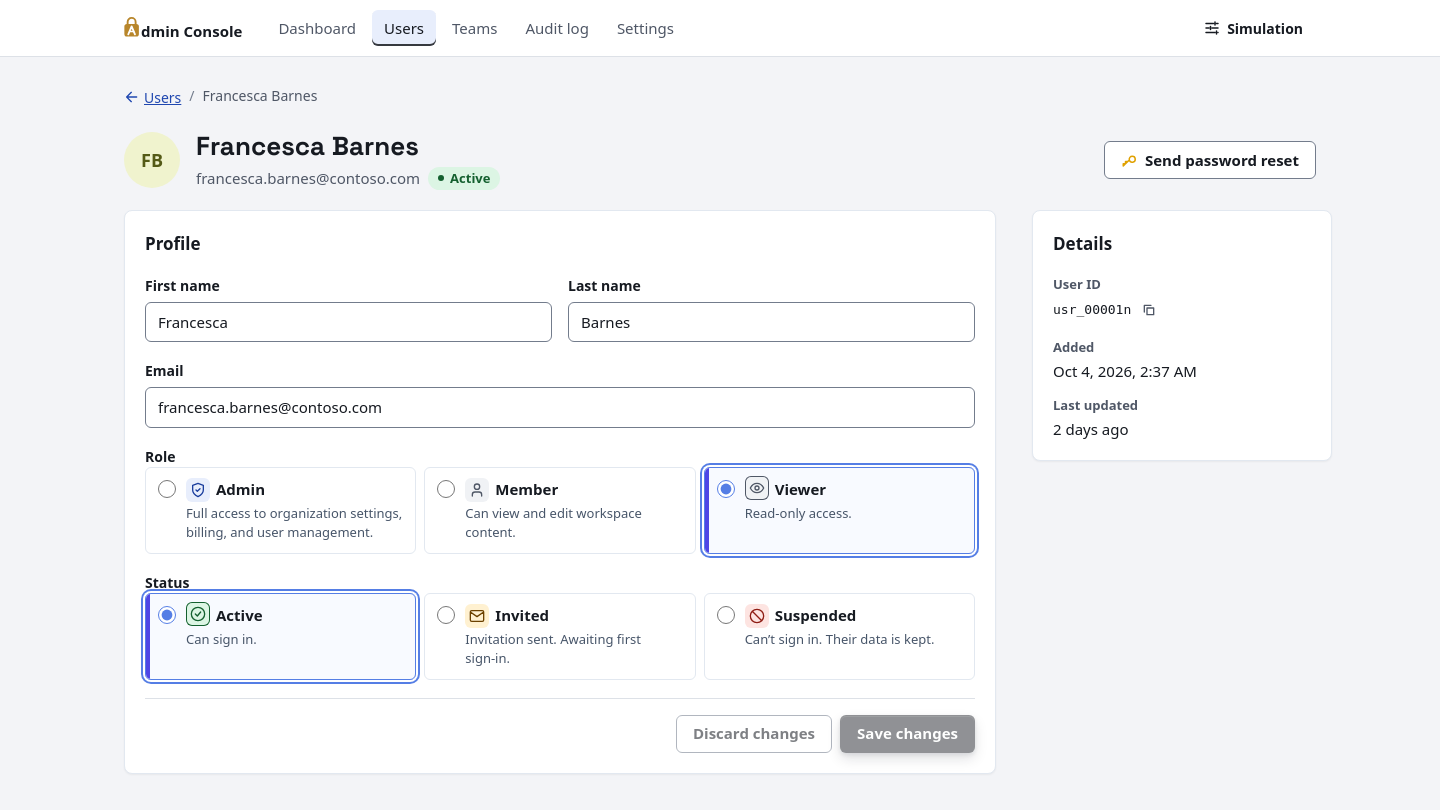
User details › handles a 412 by showing a diff and merging on request
Replace the text in the field labelled "Last name" with "Mine". click: (772, 322)
box: [568, 302, 975, 342]
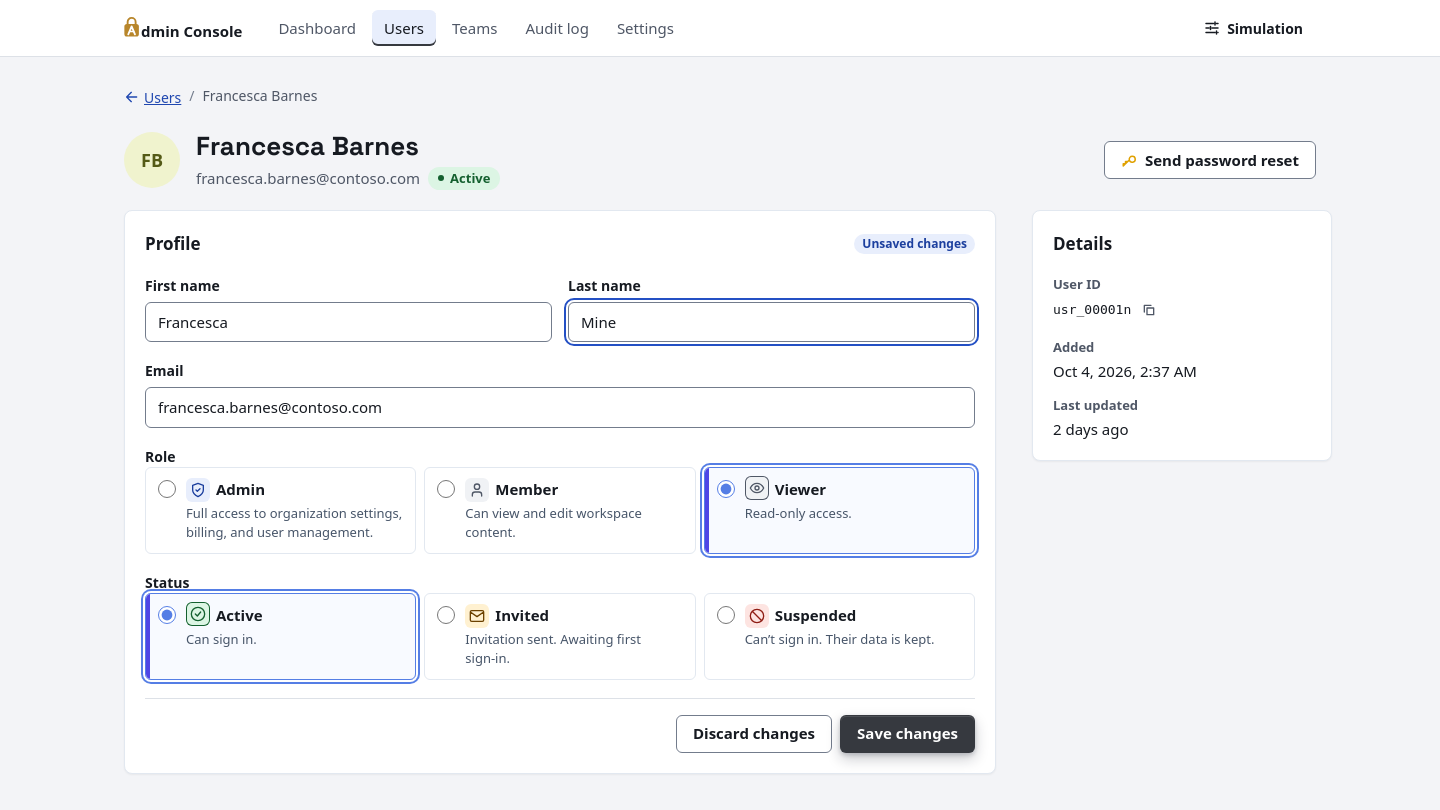
Click the button "Save changes". click: (908, 734)
box: [840, 714, 975, 752]
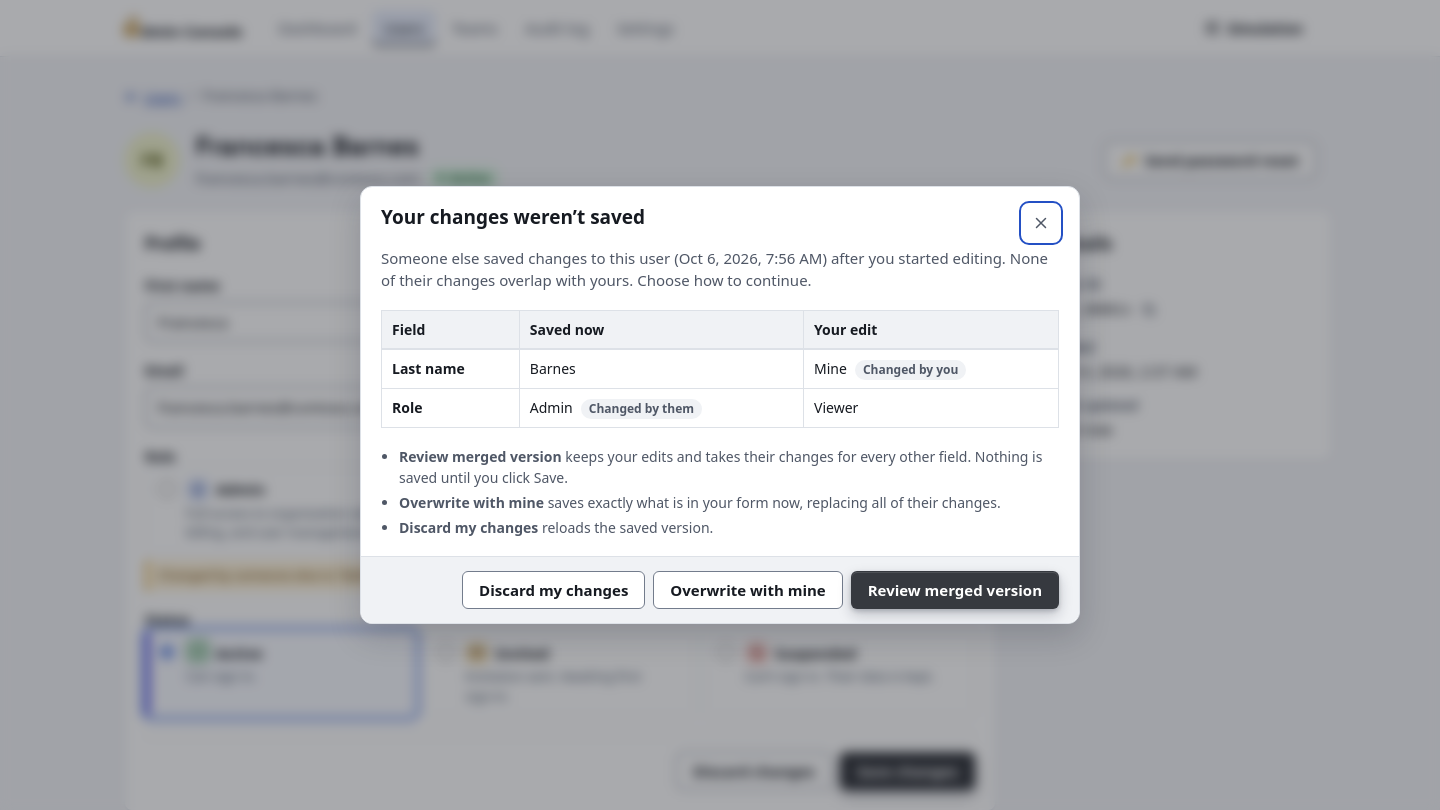
Expected: the table is shown, [381, 310, 1059, 428]
Expected: the column heading "Role" is shown, [382, 388, 519, 428]
Expected: the column heading "Last name" is shown, [382, 349, 519, 389]
Click the button "Review merged version". click: (955, 590)
box: [851, 571, 1059, 609]
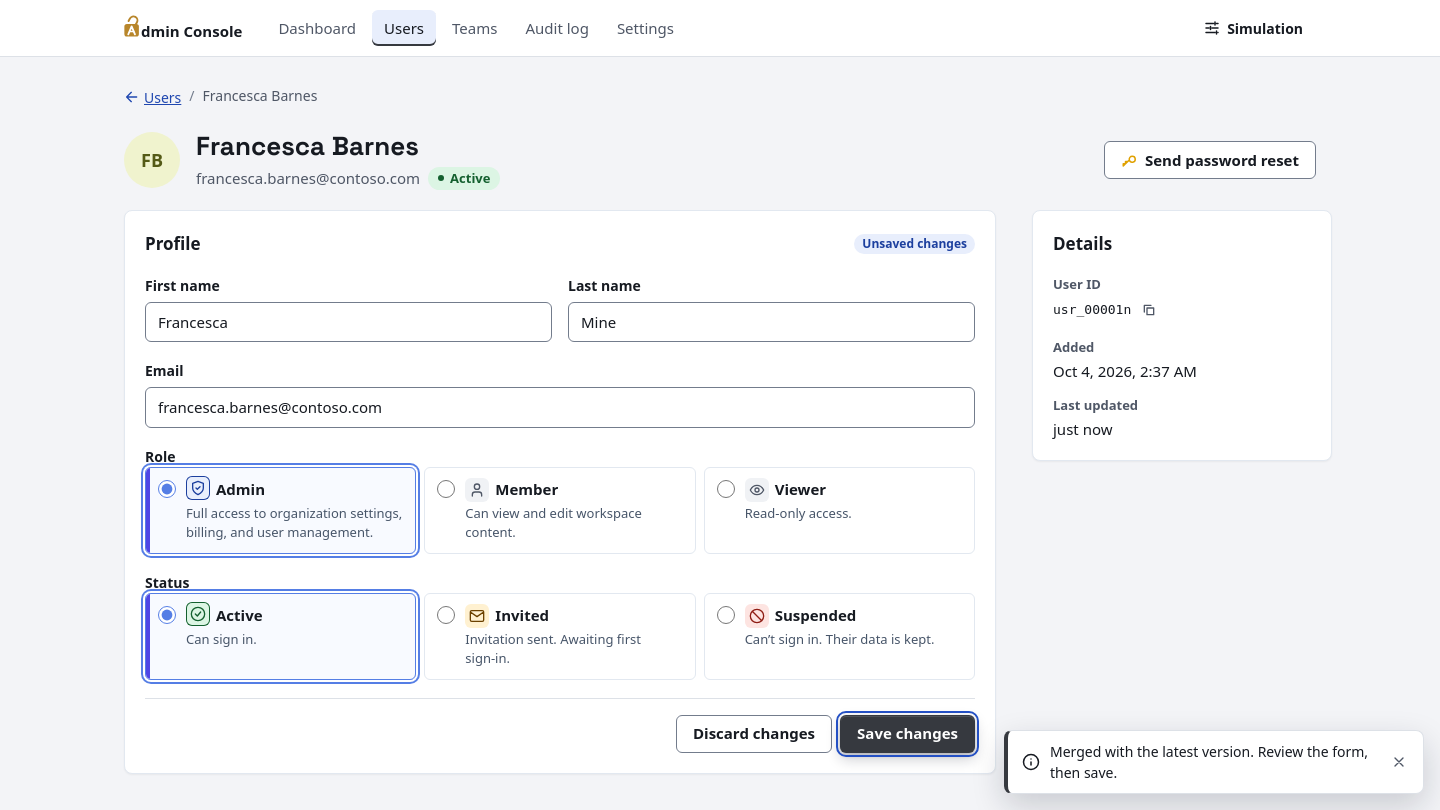
Expected: the radio button labelled "Admin" is checked, [158, 480, 176, 498]
Click the button "Save changes". click: (908, 734)
box: [840, 714, 975, 752]
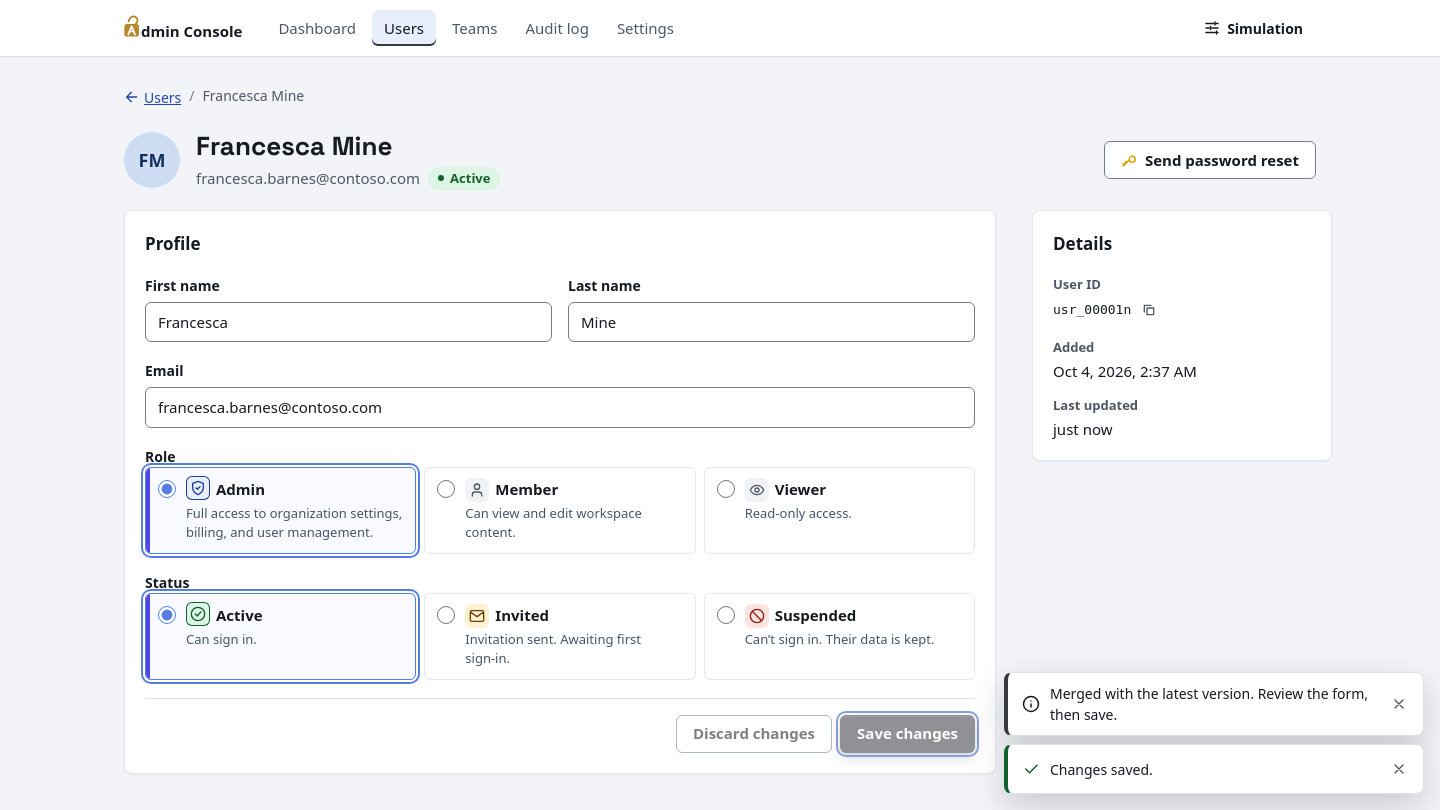
Expected: the text "Changes saved." is shown, [1050, 760, 1153, 778]
